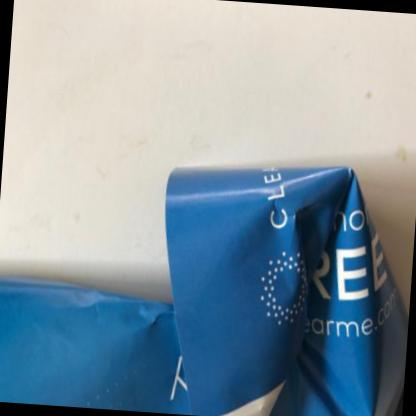Paper: (0, 168, 409, 416)
